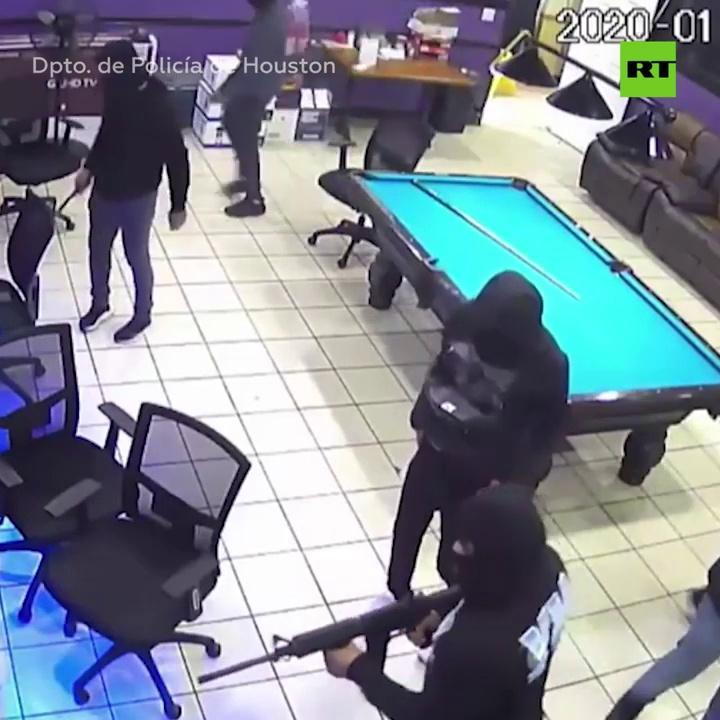Long guns: (185, 585, 466, 698)
